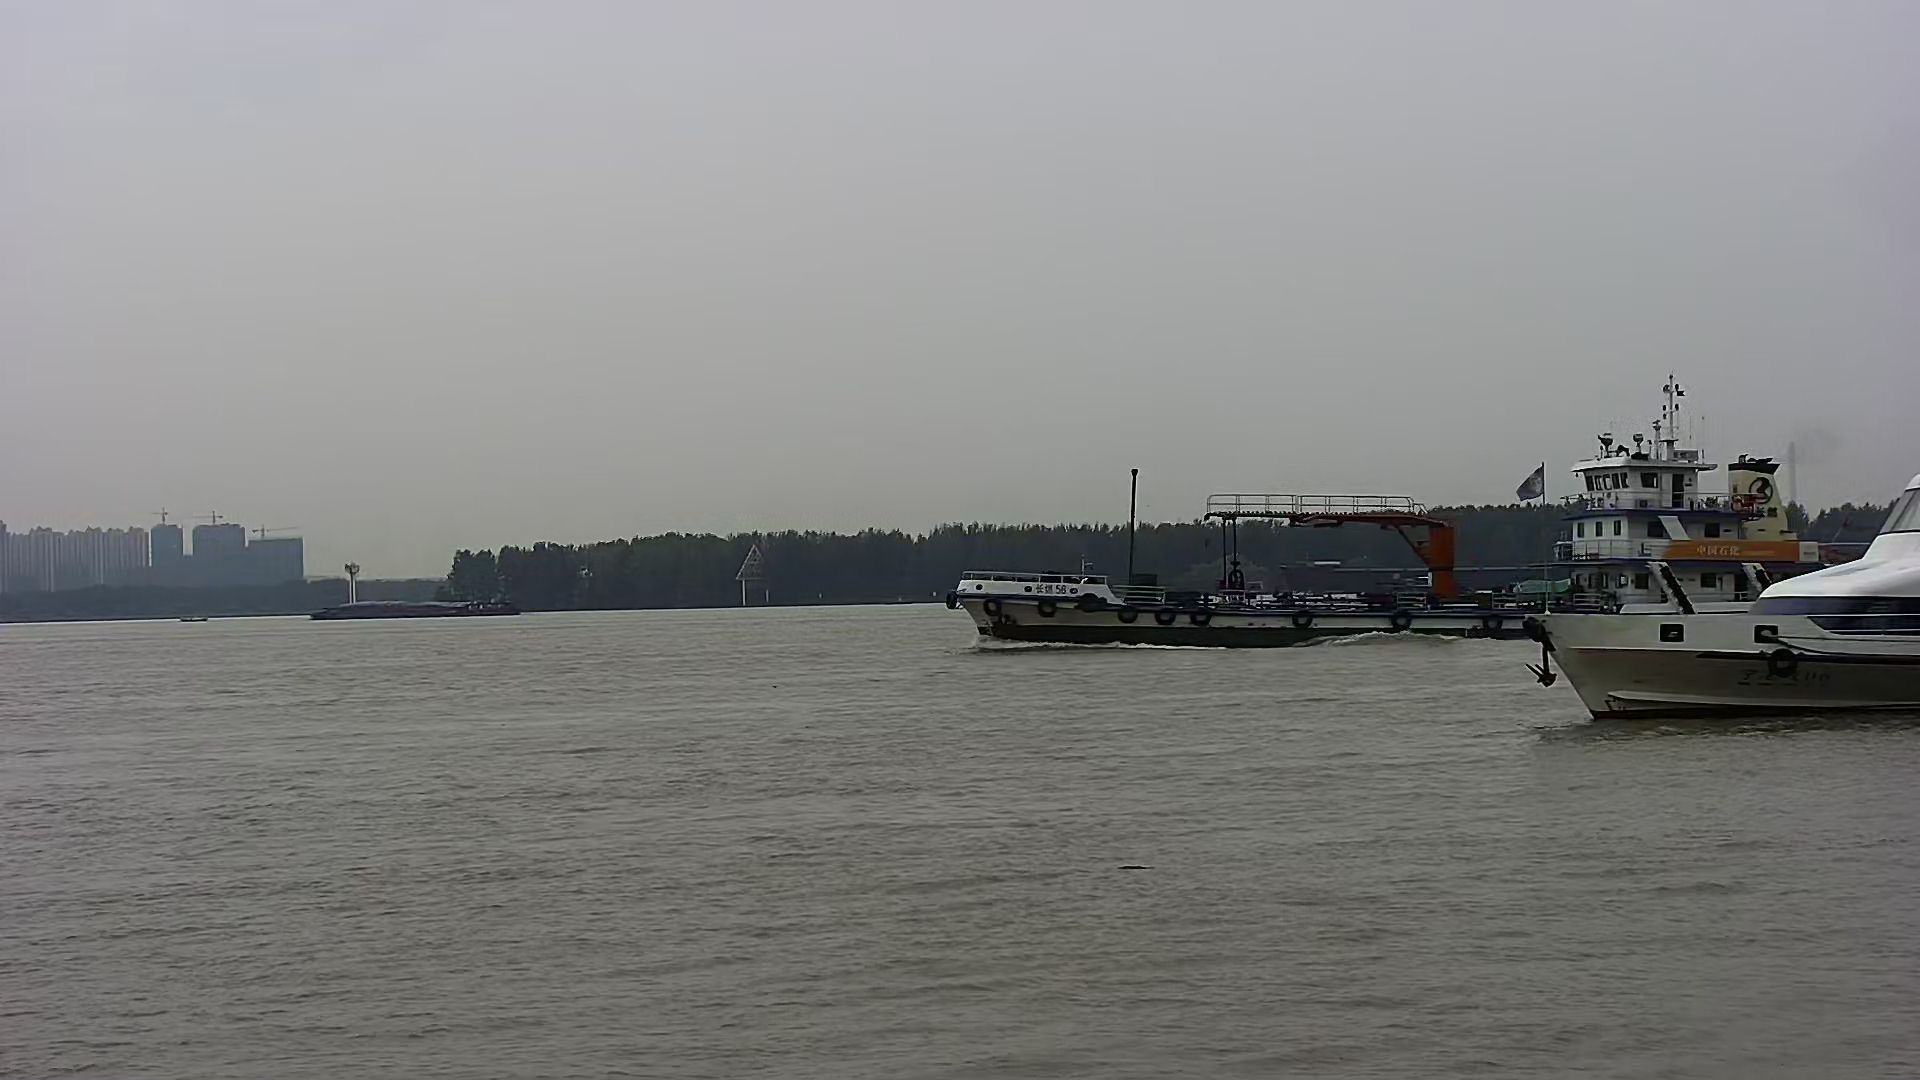ship: (949, 373, 1851, 651), (1523, 469, 1920, 723), (307, 563, 518, 620)
